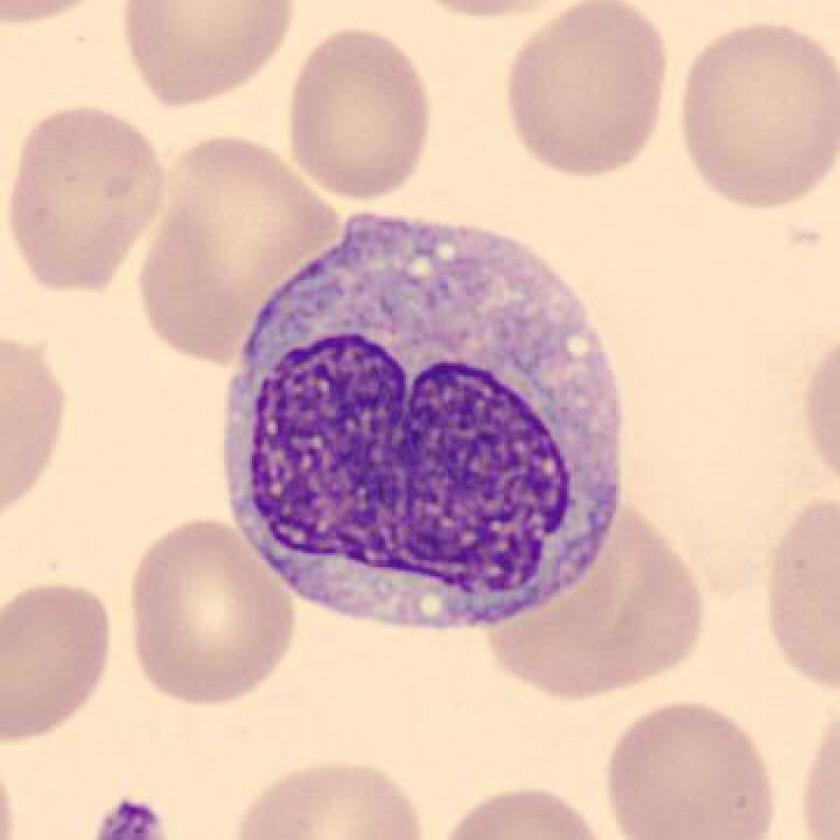monocyte: (195, 184, 647, 654)
